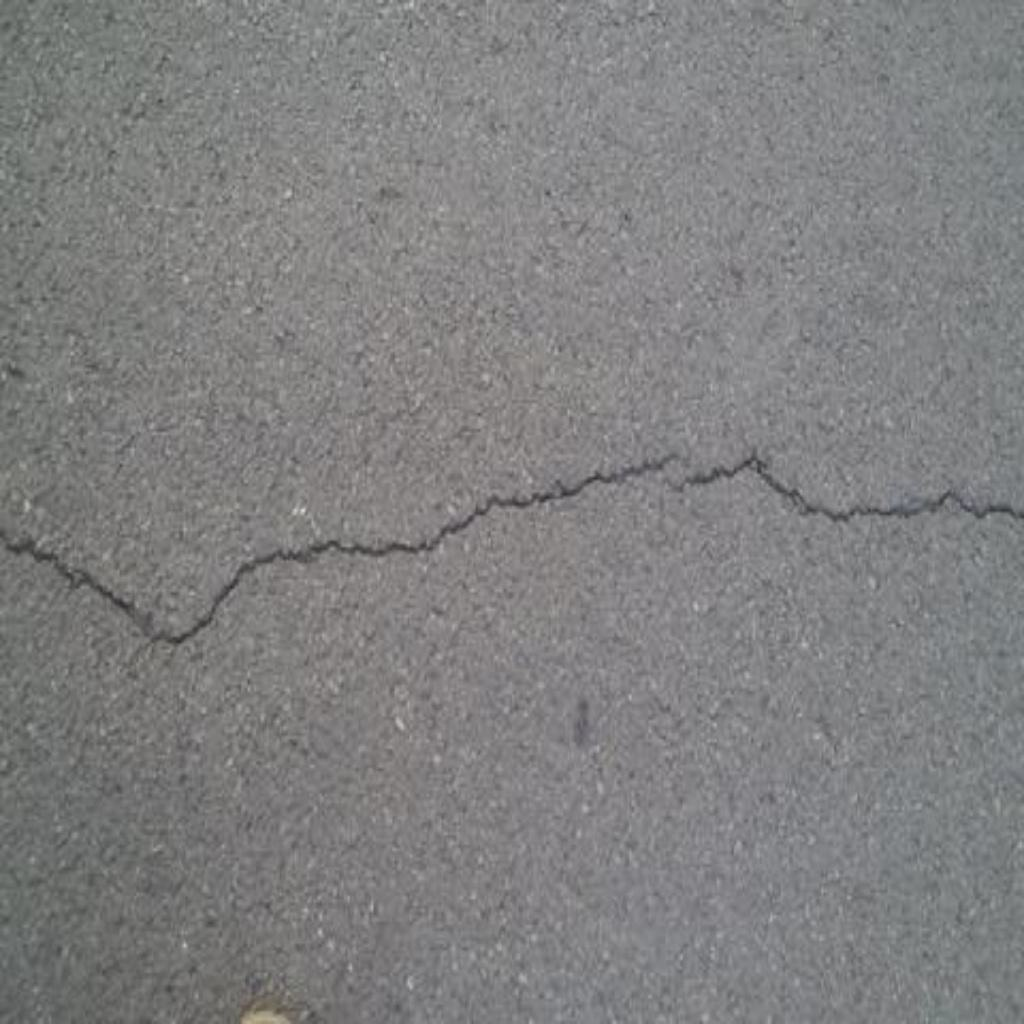Crack: (1, 448, 679, 648), (673, 452, 1024, 525)
